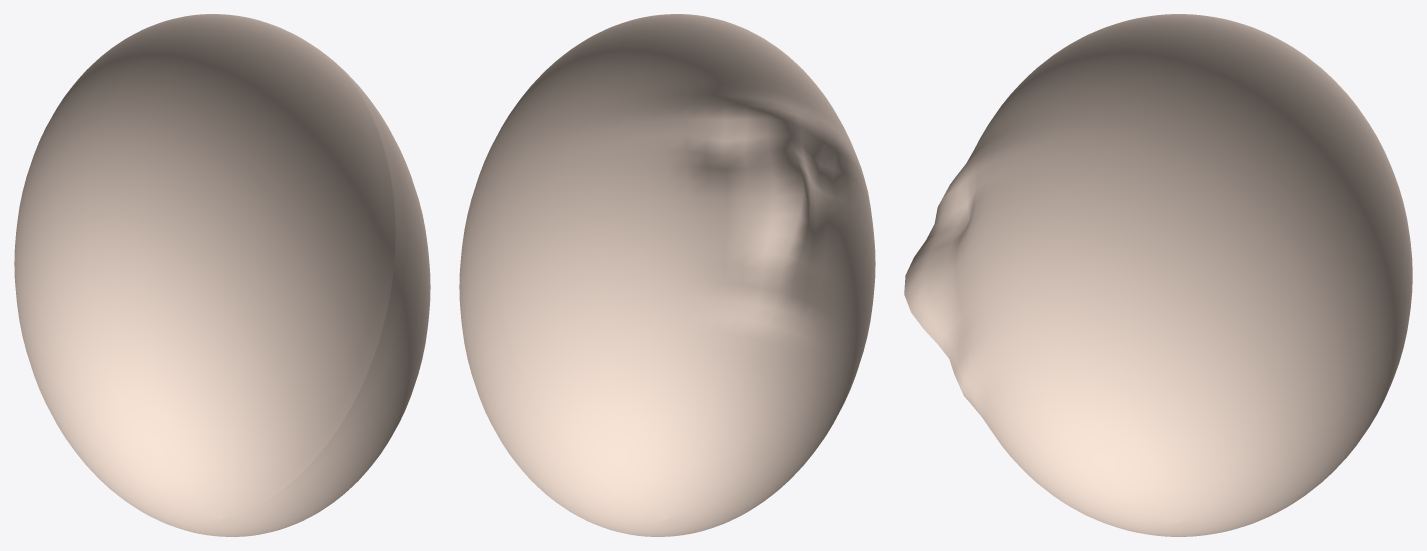
3 views of the same model, side by side, from view 1: azimuth 30°, elevation 25°; view 2: azimuth 150°, elevation 25°; view 3: azimuth 270°, elevation 25° (orthographic).
Visible parts, largest first — view 1: head; view 2: head; view 3: head.
Boxes of the visible parts, left/top/right/bottom form: head: left=14, top=14, right=430, bottom=536; head: left=459, top=14, right=875, bottom=536; head: left=904, top=14, right=1412, bottom=536.
Size of the model in its own units: 1.56 by 2.1 by 1.96.
